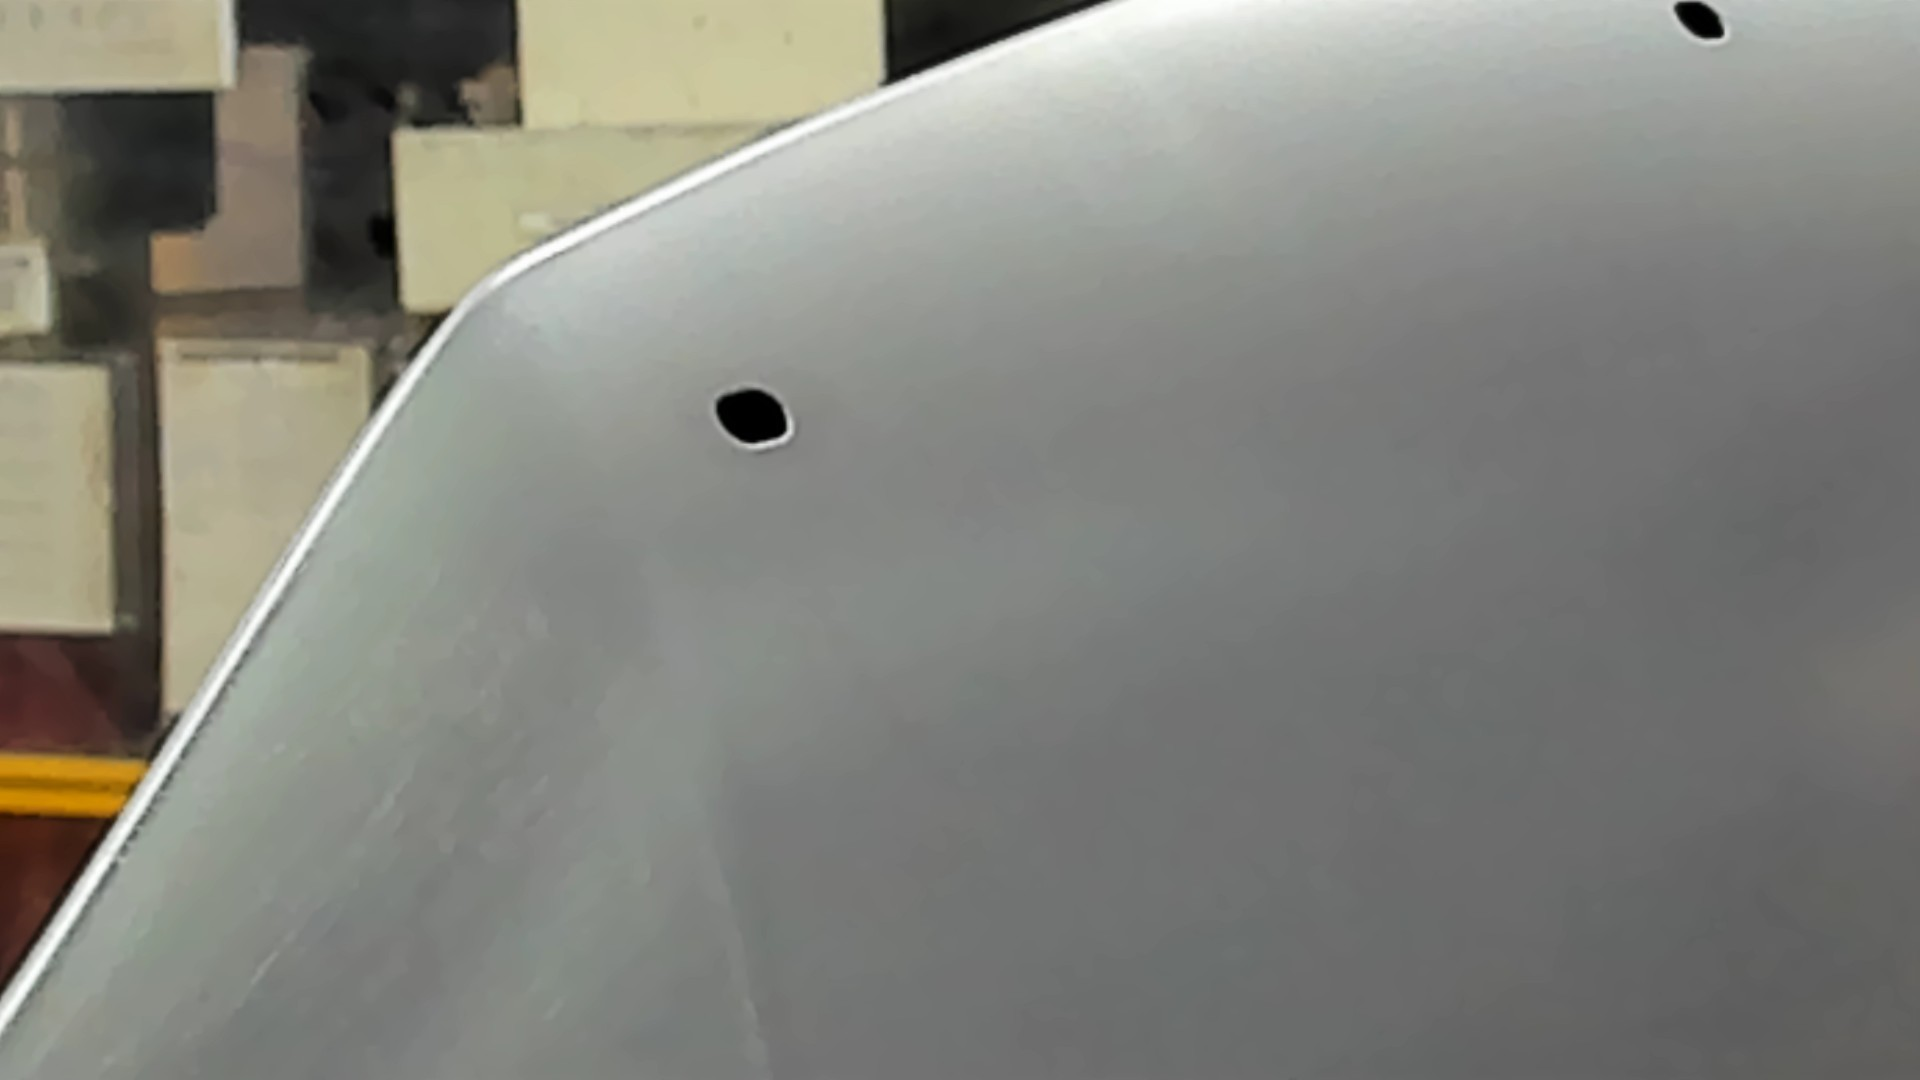amorfo: (705, 381, 800, 469), (1669, 1, 1735, 51)
capo: (885, 138, 1920, 1080)
